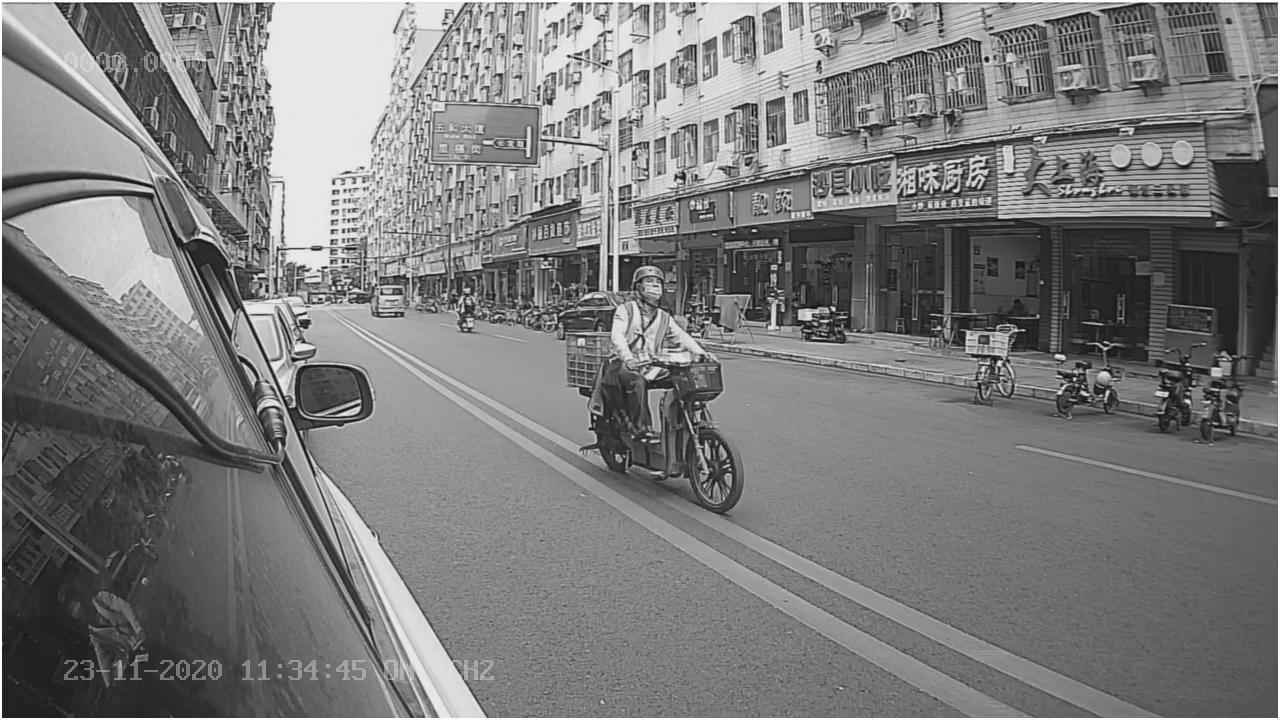person: (609, 260, 701, 370)
